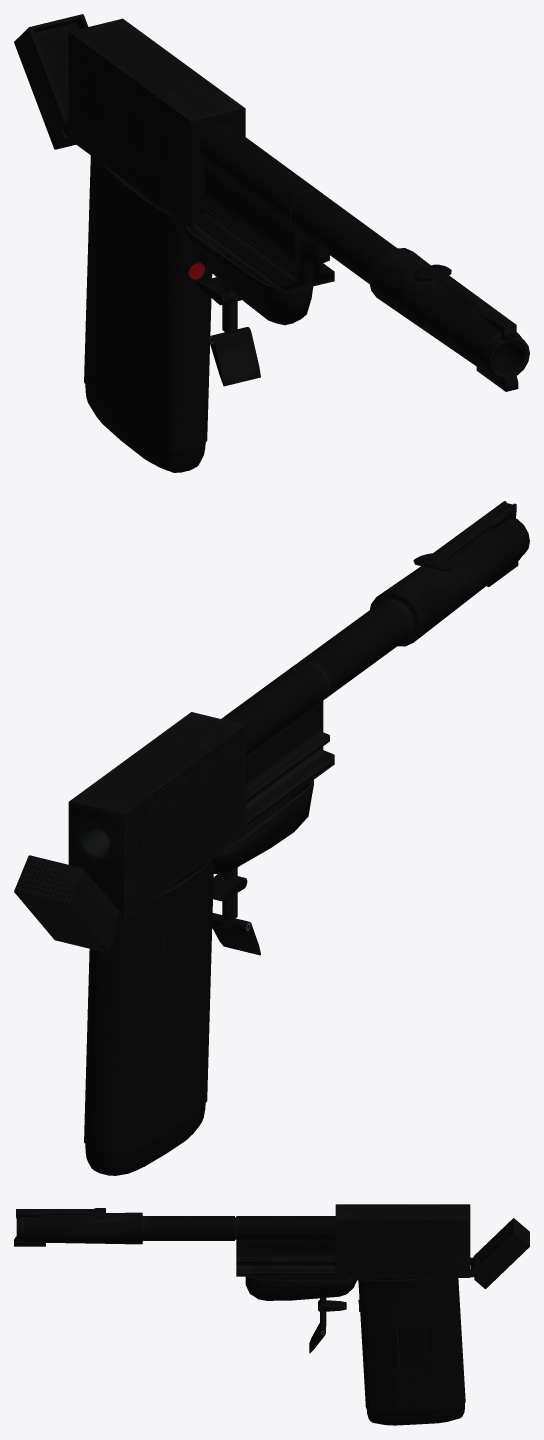
Rendered from ggun.gltf.
3 views of the same model, one above another, from view 1: azimuth 30°, elevation 25°; view 2: azimuth 150°, elevation 25°; view 3: azimuth 270°, elevation 25° (orthographic). The views are drawn at different scales.
Visible parts, largest first — view 1: polySurface1, polySurface27, polySurface20; view 2: polySurface1, polySurface27, polySurface20; view 3: polySurface1, polySurface27, polySurface20.
Part boxes in pixels (x1,y1,x2,y2): polySurface1: [63, 18, 529, 472]; polySurface27: [193, 124, 334, 293]; polySurface20: [14, 14, 88, 149]; polySurface1: [68, 501, 529, 1175]; polySurface27: [221, 661, 334, 828]; polySurface20: [14, 855, 119, 953]; polySurface1: [14, 1204, 476, 1425]; polySurface27: [236, 1216, 335, 1276]; polySurface20: [470, 1218, 529, 1288].
Bounding box in the file's own units: 4.59 × 29.71 × 65.38.
Materials: 1 (1 with a texture image).
